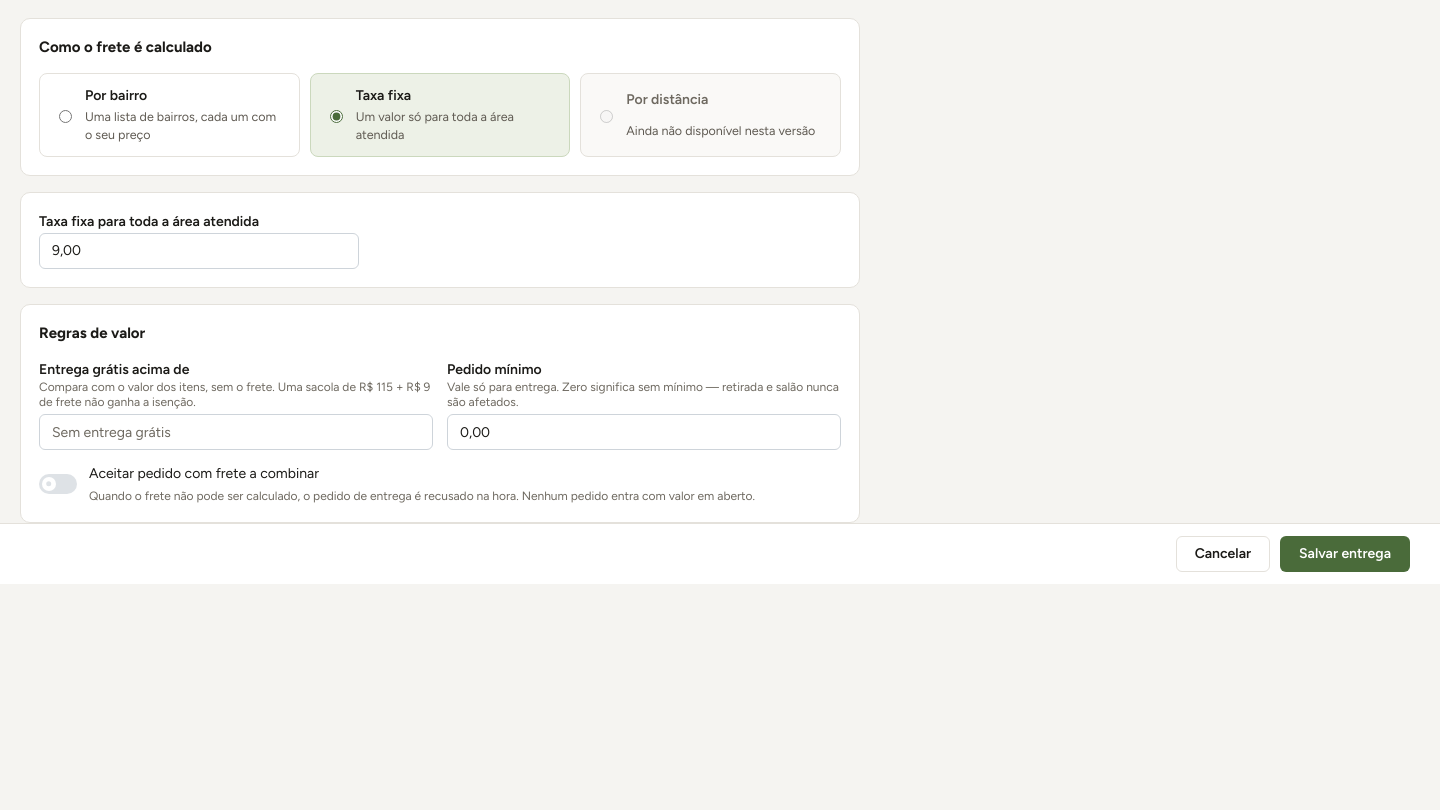
Test: DeliveryPage › a ajuda do 'a combinar' troca com o interruptor
Check: the text "é recusado na hora" is shown, box left=89, top=489, right=755, bottom=503
Click the switch labelled "Aceitar pedido com frete a combinar" at (58, 484), box left=39, top=464, right=841, bottom=504
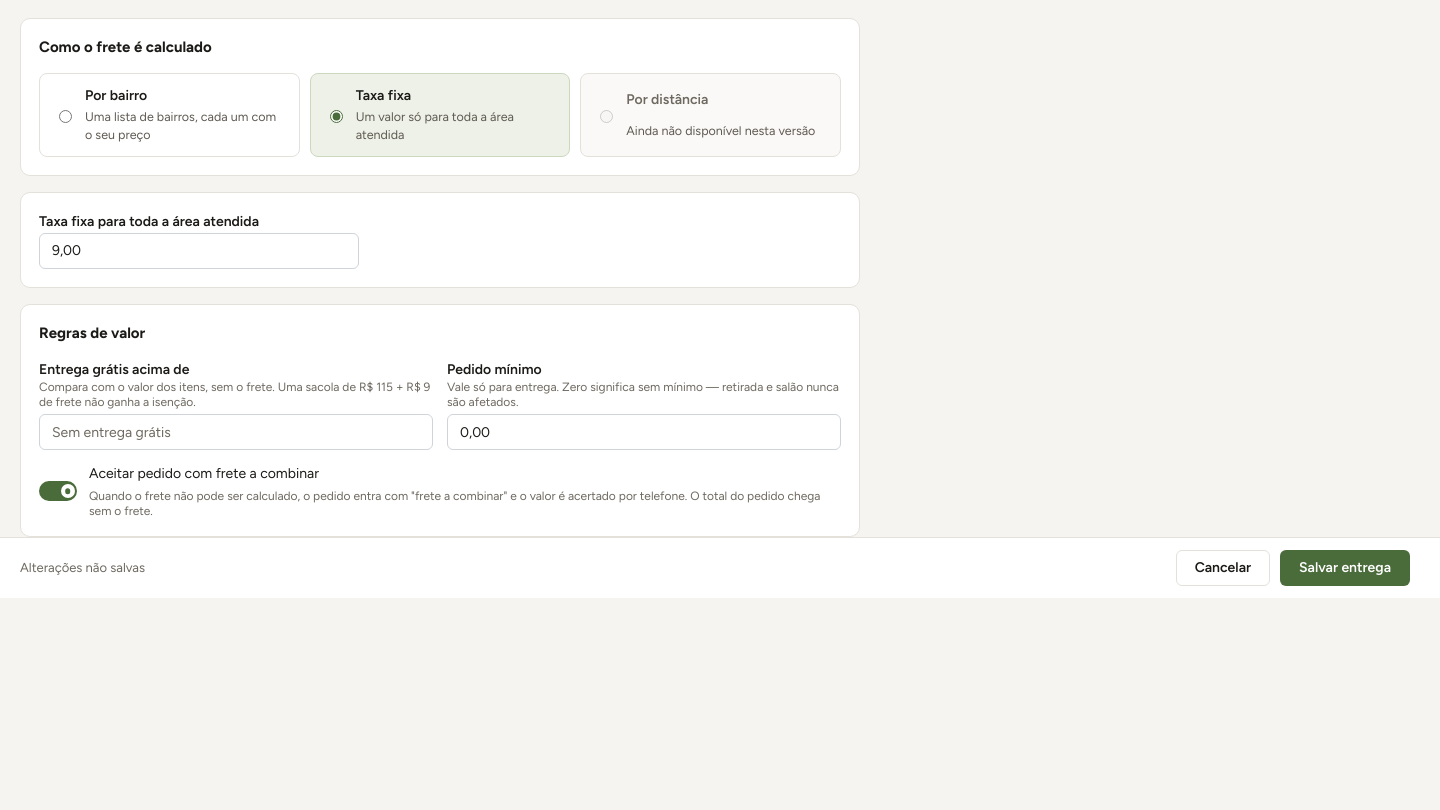
Check: the text "o valor é acertado por telefone" is shown, box left=89, top=489, right=820, bottom=518
